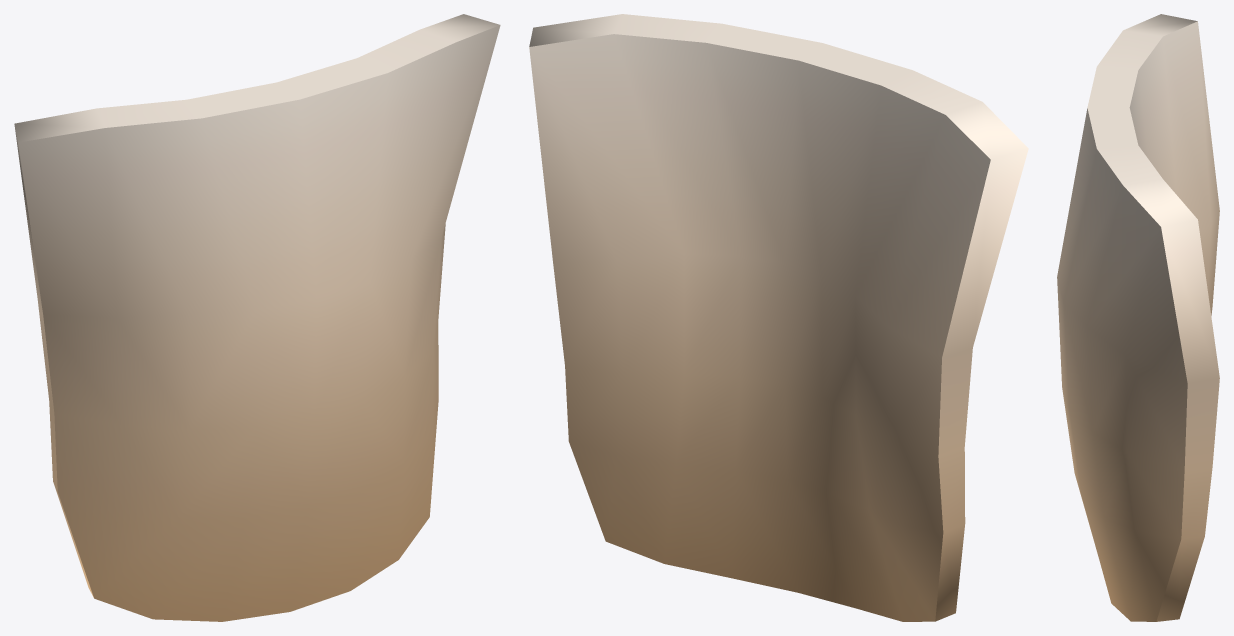
Rendered from Hair_18_C02.fbx.
3 views of the same model, side by side, from view 1: azimuth 30°, elevation 25°; view 2: azimuth 150°, elevation 25°; view 3: azimuth 270°, elevation 25° (orthographic). The views are drawn at different scales.
Visible parts, largest first — view 1: Hair_18_C02; view 2: Hair_18_C02; view 3: Hair_18_C02.
Boxes of the visible parts, x1,y1,x2,y2 form: Hair_18_C02: [14, 14, 500, 621]; Hair_18_C02: [529, 14, 1028, 621]; Hair_18_C02: [1057, 14, 1219, 621].
Bounding box in the file's own units: 58.41 × 60.06 × 18.87.
